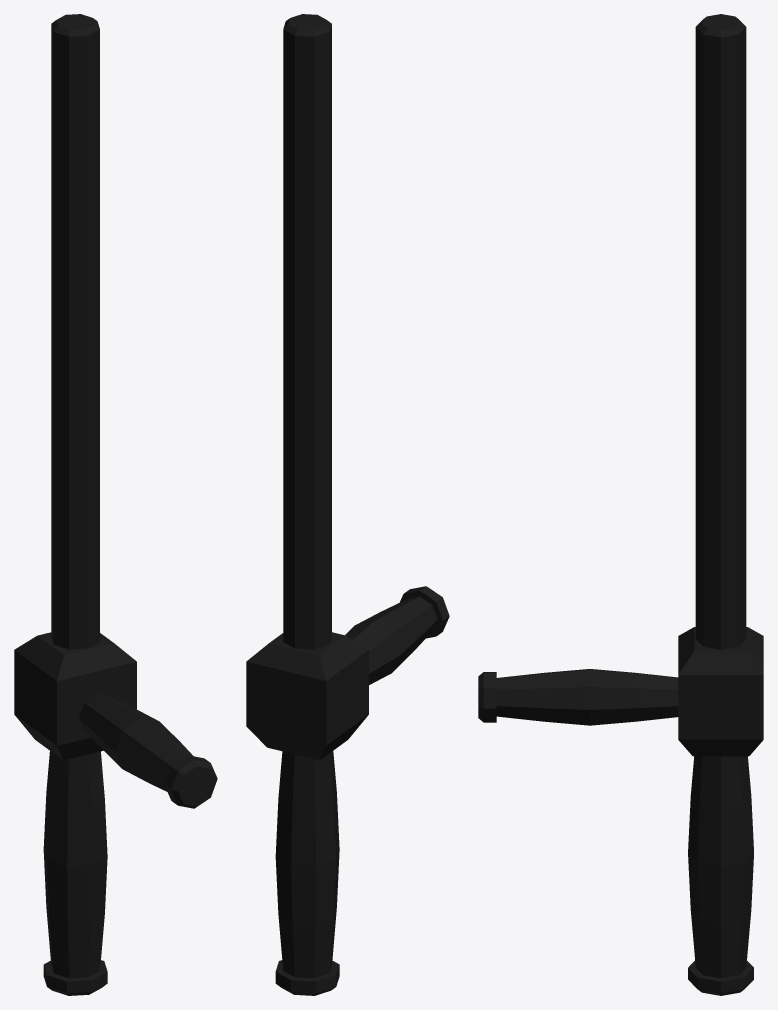
The model's file is Baton.obj.
3 views of the same model, side by side, from view 1: azimuth 30°, elevation 25°; view 2: azimuth 150°, elevation 25°; view 3: azimuth 270°, elevation 25° (orthographic).
Parts seen in each view (by area): view 1: Baton_Circle; view 2: Baton_Circle; view 3: Baton_Circle.
Part boxes in pixels (x1,y1,x2,y2): Baton_Circle: (14,14,217,995); Baton_Circle: (246,14,449,995); Baton_Circle: (478,14,763,995).
Size of the model in its own units: 0.0522 by 0.6003 by 0.1615.
